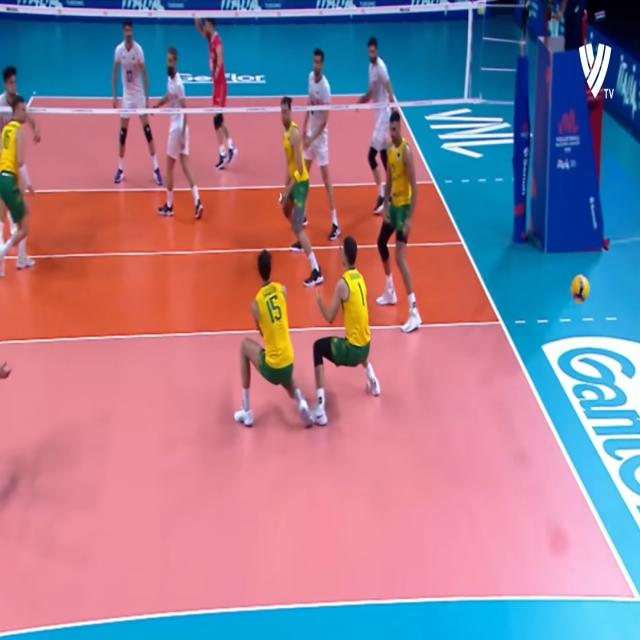player: (237, 250, 313, 430), (316, 235, 382, 426), (379, 111, 425, 336), (109, 17, 163, 190), (154, 45, 205, 218), (188, 6, 240, 175), (276, 95, 322, 285), (305, 43, 341, 241), (357, 33, 396, 212), (0, 98, 36, 271), (0, 63, 40, 157)
